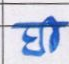i_matra: (44, 16, 58, 52)
